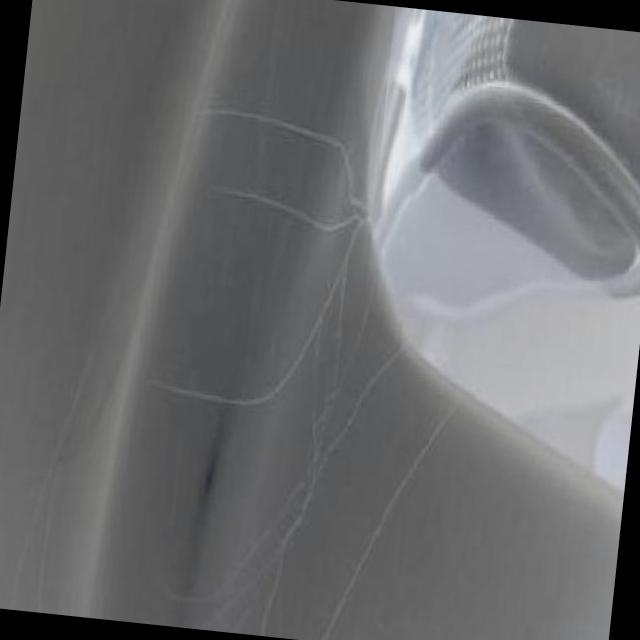crack: (232, 102, 400, 190), (234, 188, 366, 250), (153, 349, 254, 421)
